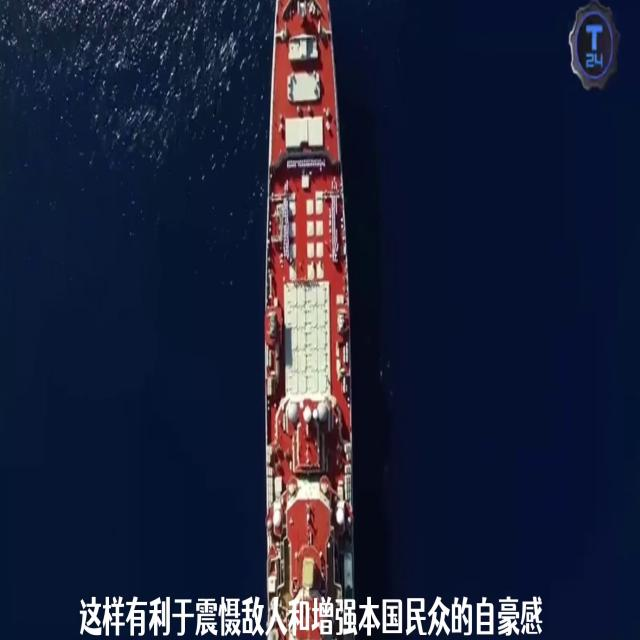navalvessels: (251, 0, 362, 640)
